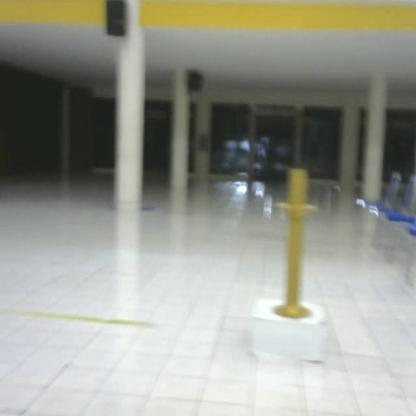pole: (268, 161, 321, 328)
